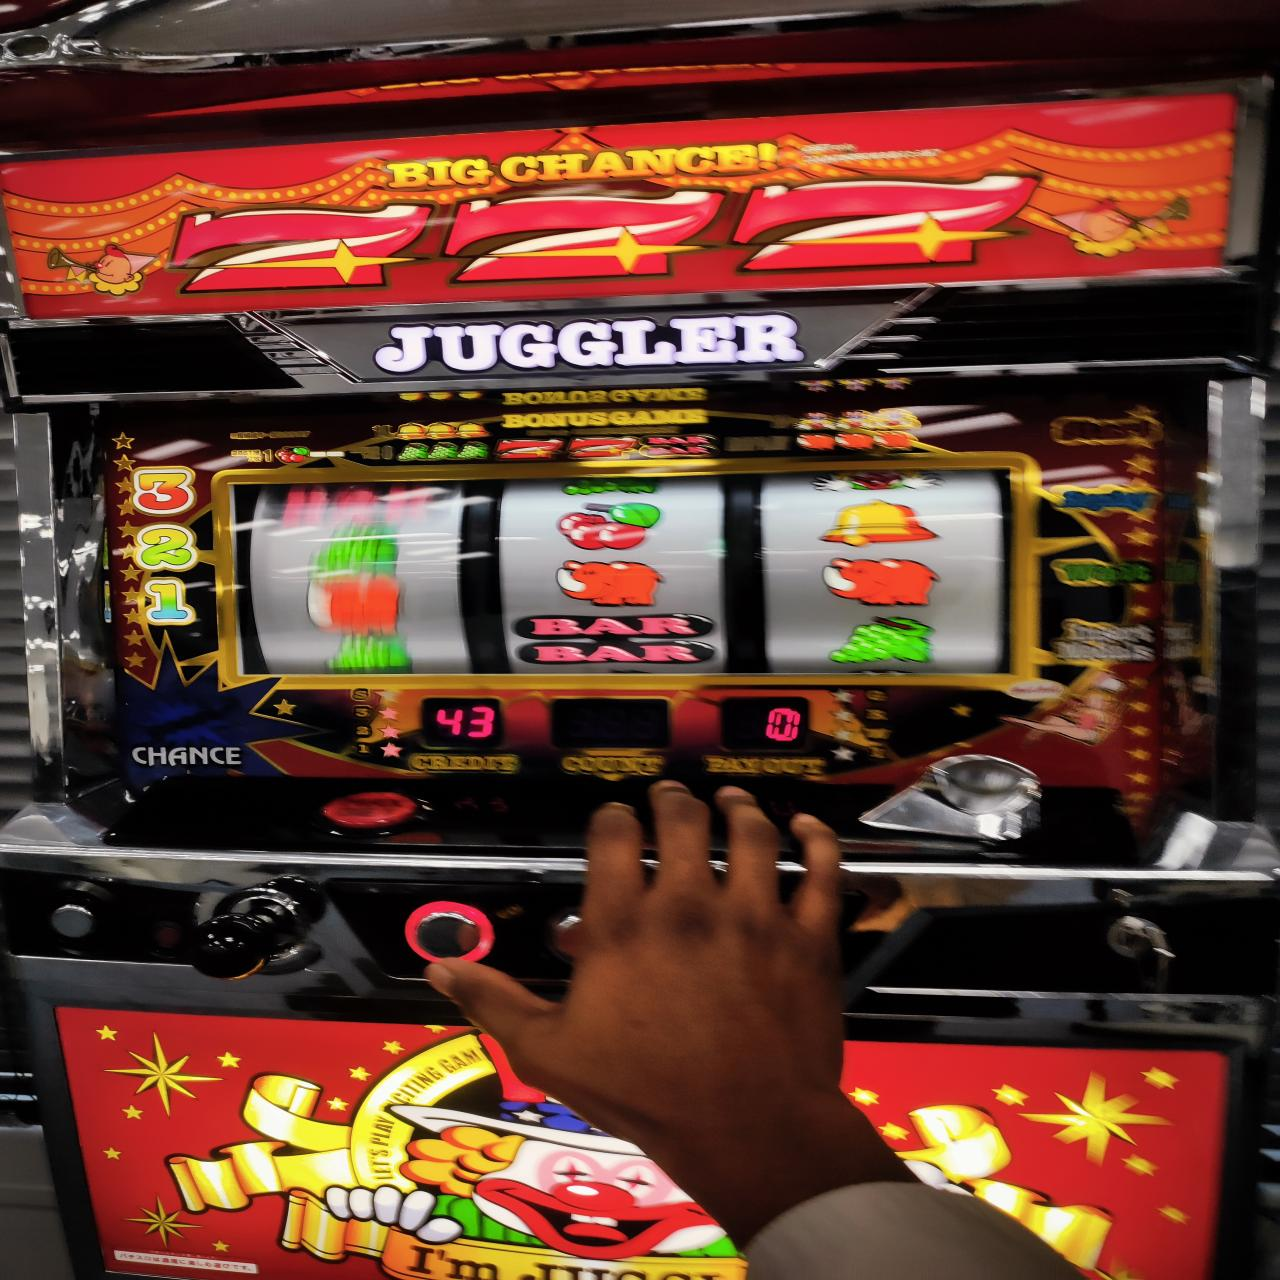8: (824, 556, 940, 607), (554, 560, 669, 607)
bar: (519, 613, 712, 668)
bell: (818, 497, 937, 547)
cherry: (554, 502, 661, 553)
grape: (831, 615, 938, 667)
rhino: (218, 461, 1043, 694)
